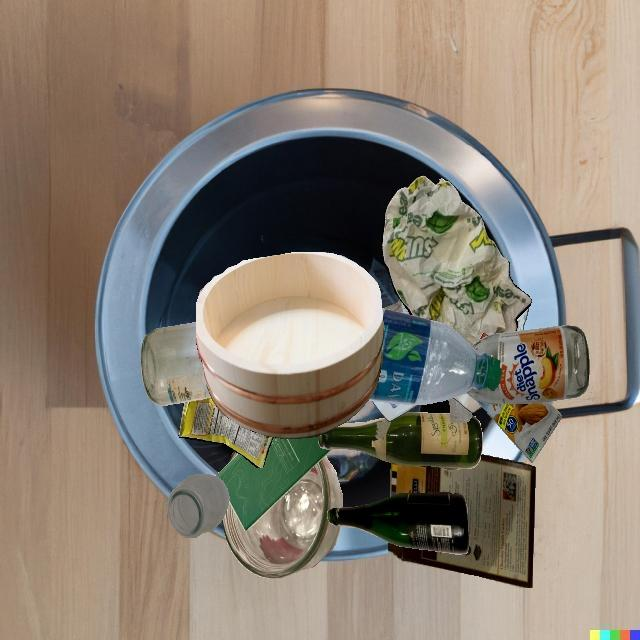cardboard: (388, 454, 536, 588), (476, 399, 562, 463)
combustible waste: (196, 252, 384, 438)
glass: (222, 455, 342, 579), (466, 326, 589, 404), (318, 412, 482, 469), (327, 492, 469, 554), (141, 322, 211, 405), (167, 474, 229, 537), (448, 398, 472, 423)
paper: (381, 176, 532, 346), (380, 309, 525, 412), (216, 436, 332, 531)
plastic: (368, 308, 502, 404)
trash: (178, 398, 273, 468)
